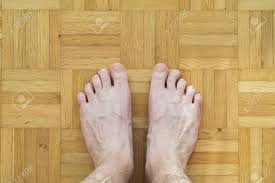feet: (73, 60, 140, 178), (143, 59, 208, 177)
